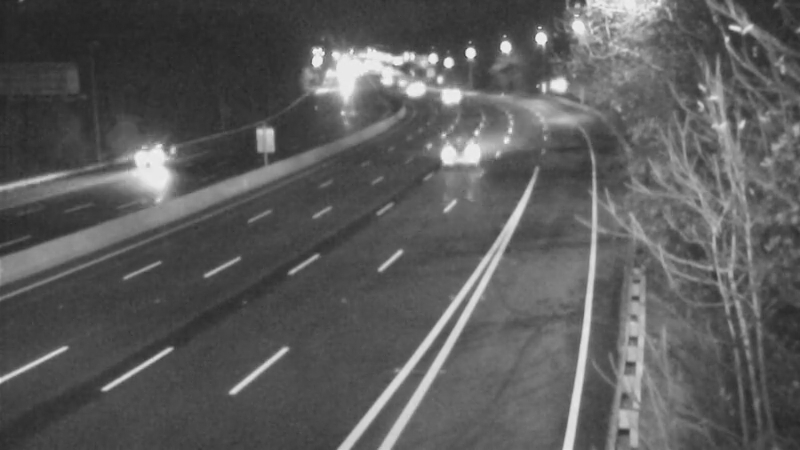vehicle: (421, 117, 501, 197), (109, 126, 189, 206), (423, 66, 473, 116)
